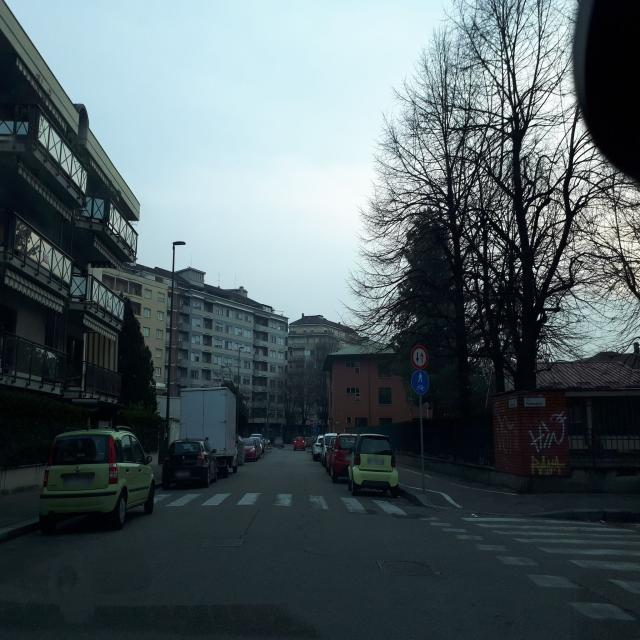car: (38, 424, 156, 530), (346, 432, 399, 496), (161, 438, 218, 490), (329, 431, 358, 483), (321, 433, 337, 469), (241, 438, 259, 462), (250, 432, 266, 453), (312, 436, 324, 460), (293, 437, 306, 451), (273, 436, 284, 448), (264, 436, 270, 447)
